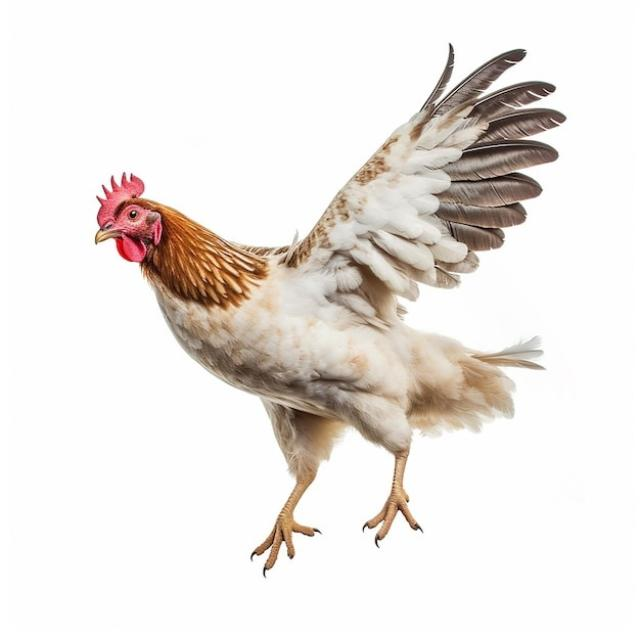Chicken: (92, 44, 566, 574)
